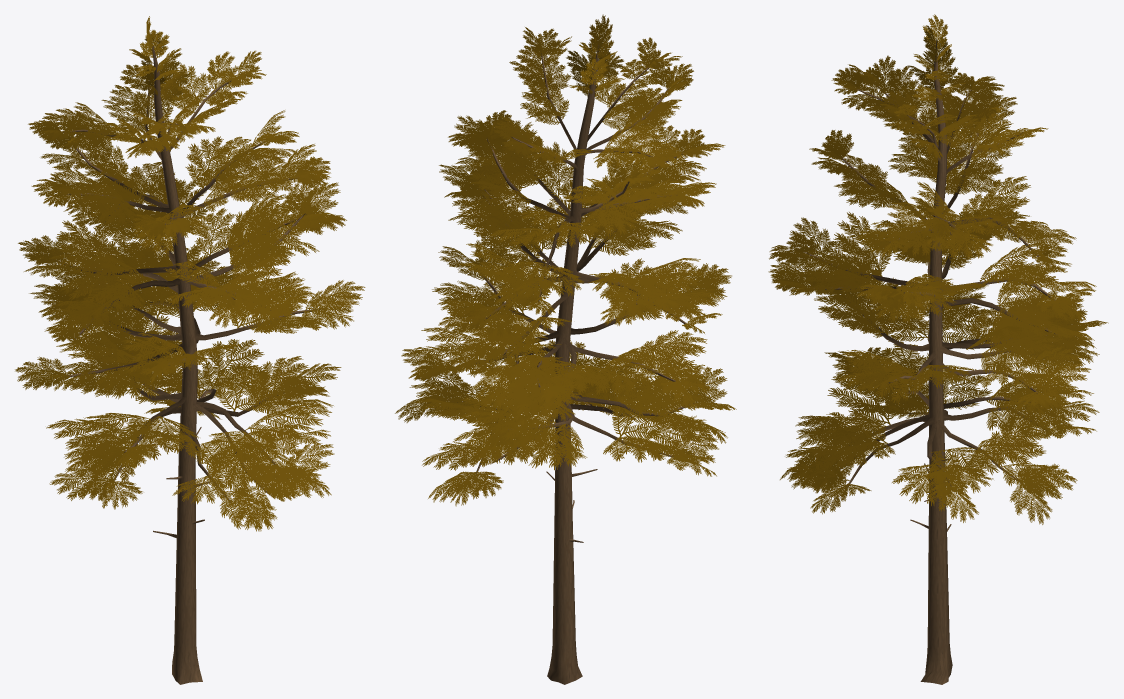
Rendered from SM_tree_02.glb.
3 views of the same model, side by side, from view 1: azimuth 30°, elevation 25°; view 2: azimuth 150°, elevation 25°; view 3: azimuth 270°, elevation 25° (orthographic). The views are drawn at different scales.
Parts seen in each view (by area): view 1: SM_tree_02; view 2: SM_tree_02; view 3: SM_tree_02.
Part boxes in pixels (bbox=[...]): SM_tree_02: bbox=[15, 16, 365, 684]; SM_tree_02: bbox=[395, 14, 736, 684]; SM_tree_02: bbox=[768, 14, 1108, 684].
Bounding box in the file's own units: 6.22 × 12.89 × 6.21.
Materials: 2 (2 with a texture image).
